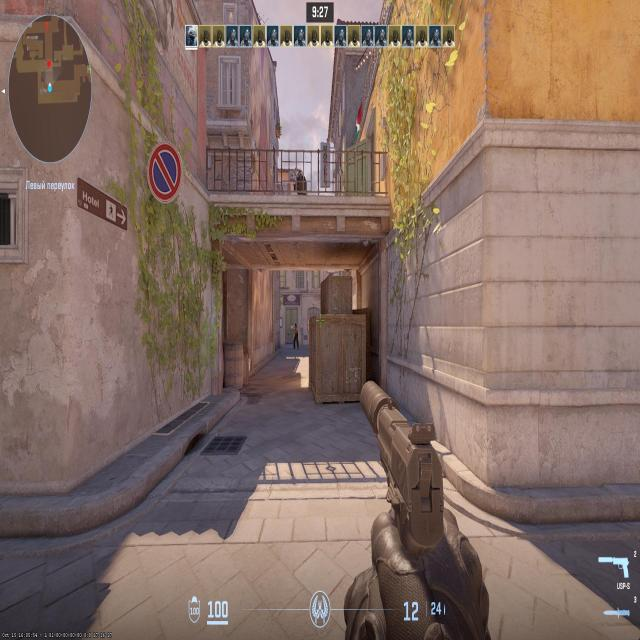T: (294, 324, 298, 350)
T_heat: (296, 323, 297, 330)
